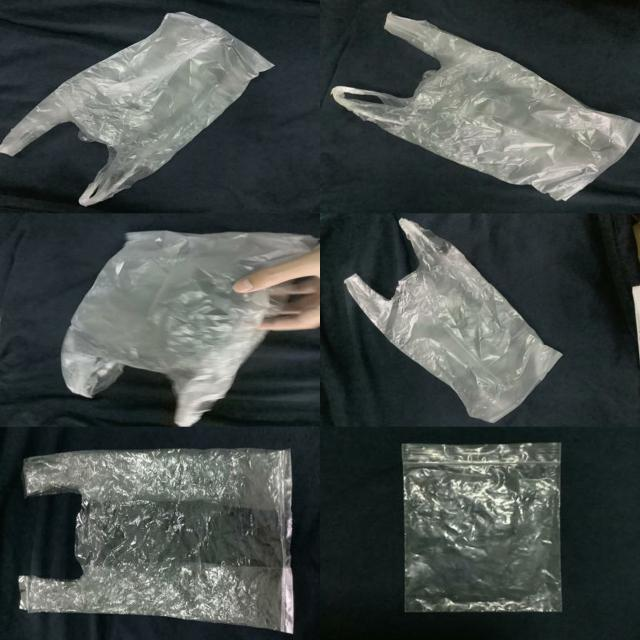Single-layer Plastic: (332, 12, 639, 200), (0, 12, 273, 206), (19, 449, 293, 632), (61, 231, 318, 426), (344, 219, 562, 422), (402, 442, 562, 612)
